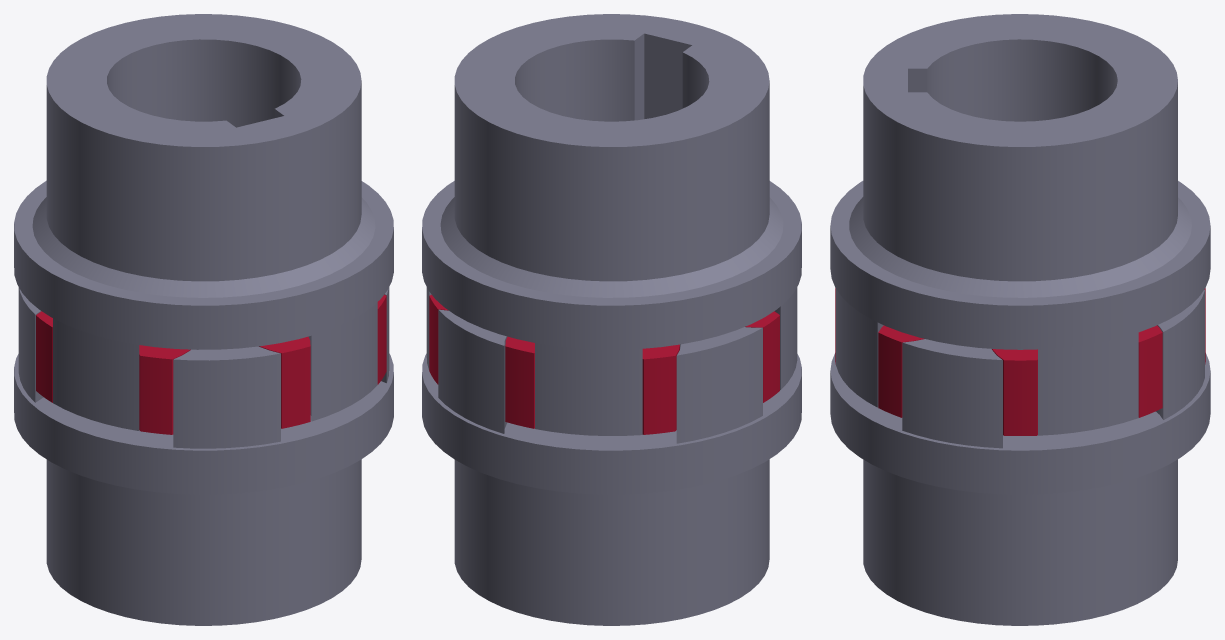
Rendered from Kupplung.obj.
3 renders of one model, left to right at view 1: azimuth 30°, elevation 25°; view 2: azimuth 150°, elevation 25°; view 3: azimuth 270°, elevation 25°, orthographic.
Visible parts, largest first — view 1: Volumenkörper1, Volumenkörper1:2, Volumenkörper1:1; view 2: Volumenkörper1, Volumenkörper1:2, Volumenkörper1:1; view 3: Volumenkörper1, Volumenkörper1:2, Volumenkörper1:1.
Part boxes in pixels (left/top/right/bottom): Volumenkörper1: left=14, top=14, right=393, bottom=430; Volumenkörper1:2: left=14, top=287, right=393, bottom=625; Volumenkörper1:1: left=36, top=294, right=386, bottom=434; Volumenkörper1: left=422, top=14, right=801, bottom=435; Volumenkörper1:2: left=422, top=309, right=801, bottom=625; Volumenkörper1:1: left=429, top=294, right=779, bottom=434; Volumenkörper1: left=830, top=14, right=1210, bottom=435; Volumenkörper1:2: left=830, top=289, right=1210, bottom=625; Volumenkörper1:1: left=835, top=288, right=1205, bottom=435.
Size of the model in its own units: 82 by 114 by 82.
